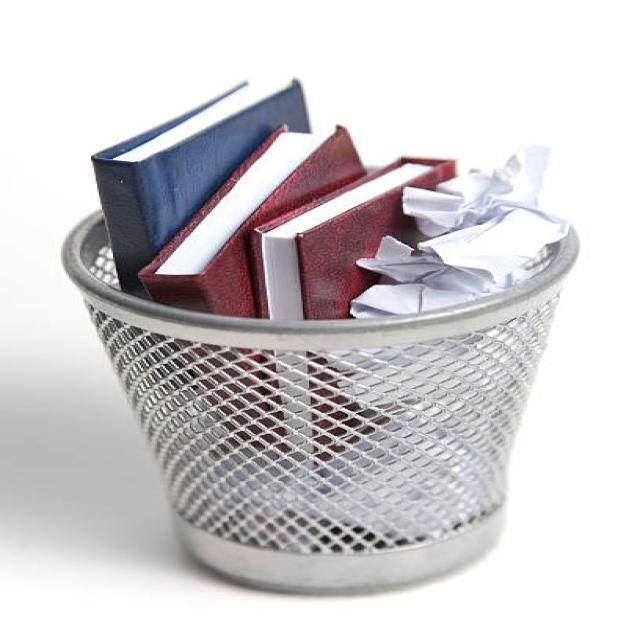metal: (116, 305, 529, 596)
paper: (71, 68, 541, 313)
